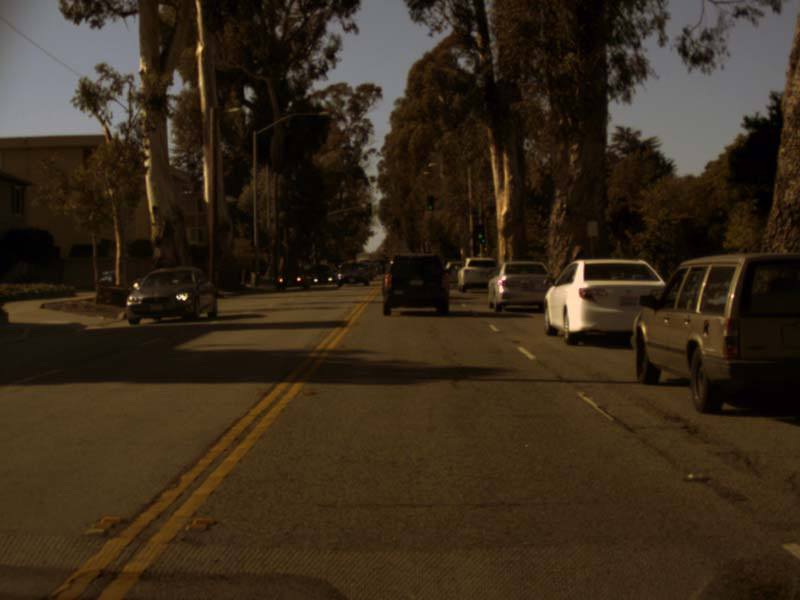Green: (476, 226, 483, 240), (427, 196, 433, 209)
